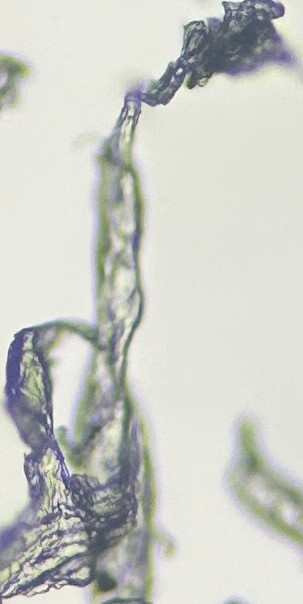microplastic: (92, 1, 302, 604), (1, 320, 158, 604), (225, 415, 303, 564), (1, 49, 31, 116)
